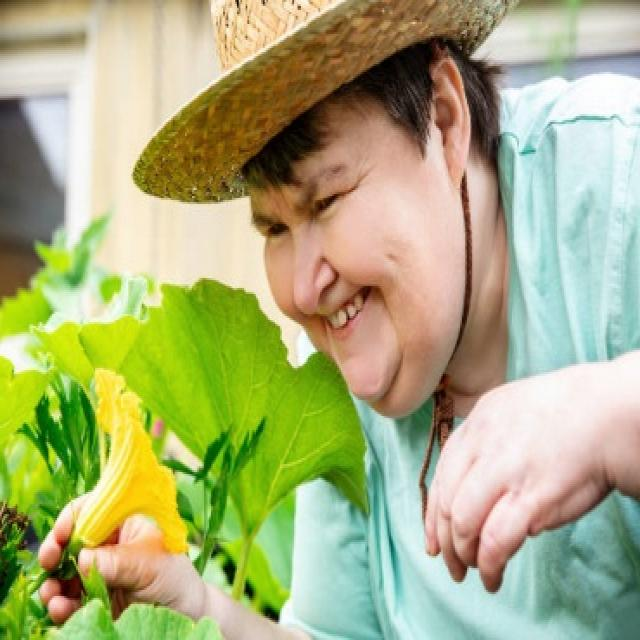adult: (55, 0, 640, 638)
